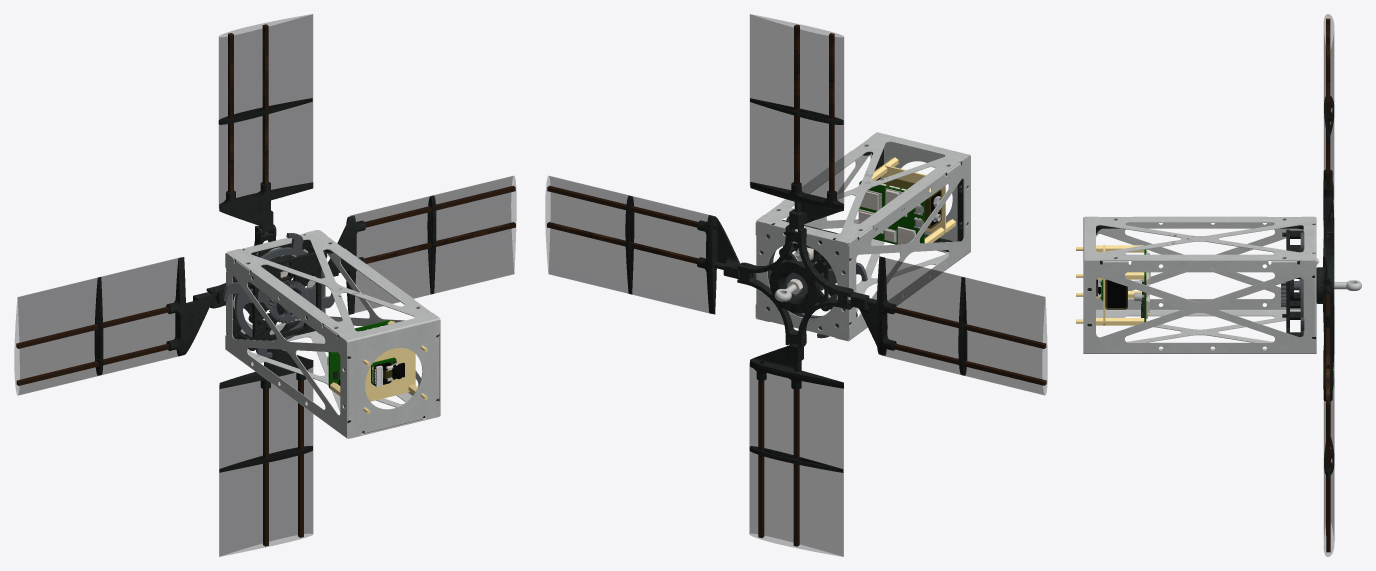
File: CANSAT.glb
3 views of the same model, side by side, from view 1: azimuth 30°, elevation 25°; view 2: azimuth 150°, elevation 25°; view 3: azimuth 270°, elevation 25° (orthographic). The views are drawn at different scales.
Parts seen in each view (by area): view 1: CANSAT.ESTRUCTURA001, CANSAT.ACETATOPALA004, CANSAT.ACETATOPALA002, CANSAT.ACETATOPALA003, CANSAT.ACETATOPALA001, CANSAT.MEC_AUTO003, CANSAT.MEC_AUTO002, CANSAT.SUJPALA004, CANSAT.SUJPALA002, CANSAT.BASE001, CANSAT.SUJPALA003, CANSAT.SUJPALA001 (+15 smaller); view 2: CANSAT.ESTRUCTURA001, CANSAT.ACETATOPALA004, CANSAT.ACETATOPALA002, CANSAT.ACETATOPALA001, CANSAT.ACETATOPALA003, CANSAT.AUTOGIRO001, CANSAT.SUJPALA001, CANSAT.SUJPALA003, CANSAT.SUJPALA004, CANSAT.SUJPALA002, CANSAT.SHIELD_PCB001, CANSAT.BASE001 (+15 smaller); view 3: CANSAT.ESTRUCTURA001, CANSAT.ACETATOPALA002, CANSAT.ACETATOPALA003, CANSAT.ACETATOPALA001, CANSAT.BASE001, CANSAT.AUTOGIRO001, CANSAT.MEC_AUTO002, CANSAT.EJESUP003, CANSAT.EJEINF002, CANSAT.SUJPALA002, CANSAT.MEC_AUTO003, CANSAT.BAT002 (+2 smaller).
Boxes of the visible parts, <box> form: CANSAT.ESTRUCTURA001: <box>225,230,440,438</box>; CANSAT.ACETATOPALA004: <box>14,257,181,395</box>; CANSAT.ACETATOPALA002: <box>219,14,312,208</box>; CANSAT.ACETATOPALA003: <box>219,367,313,556</box>; CANSAT.ACETATOPALA001: <box>350,176,516,312</box>; CANSAT.MEC_AUTO003: <box>222,233,334,357</box>; CANSAT.MEC_AUTO002: <box>236,245,327,350</box>; CANSAT.SUJPALA004: <box>166,257,217,356</box>; CANSAT.SUJPALA002: <box>219,182,313,234</box>; CANSAT.BASE001: <box>330,320,427,413</box>; CANSAT.SUJPALA003: <box>219,348,313,389</box>; CANSAT.SUJPALA001: <box>328,215,365,314</box>; CANSAT.ESTRUCTURA001: <box>755,132,970,341</box>; CANSAT.ACETATOPALA004: <box>878,257,1047,395</box>; CANSAT.ACETATOPALA002: <box>750,14,843,208</box>; CANSAT.ACETATOPALA001: <box>545,176,712,313</box>; CANSAT.ACETATOPALA003: <box>749,363,843,556</box>; CANSAT.AUTOGIRO001: <box>737,225,853,348</box>; CANSAT.SUJPALA001: <box>697,215,739,314</box>; CANSAT.SUJPALA003: <box>750,343,843,389</box>; CANSAT.SUJPALA004: <box>847,256,896,355</box>; CANSAT.SUJPALA002: <box>750,182,843,232</box>; CANSAT.SHIELD_PCB001: <box>858,188,915,244</box>; CANSAT.BASE001: <box>861,157,955,243</box>; CANSAT.ESTRUCTURA001: <box>1083,216,1316,353</box>; CANSAT.ACETATOPALA002: <box>1324,14,1334,221</box>; CANSAT.ACETATOPALA003: <box>1324,386,1334,556</box>; CANSAT.ACETATOPALA001: <box>1324,278,1334,448</box>; CANSAT.BASE001: <box>1076,245,1144,325</box>; CANSAT.AUTOGIRO001: <box>1316,225,1334,345</box>; CANSAT.MEC_AUTO002: <box>1282,229,1315,339</box>; CANSAT.EJESUP003: <box>1326,401,1330,552</box>; CANSAT.EJEINF002: <box>1326,35,1330,188</box>; CANSAT.SUJPALA002: <box>1323,169,1333,236</box>; CANSAT.MEC_AUTO003: <box>1281,232,1304,332</box>; CANSAT.BAT002: <box>1107,280,1126,307</box>.
Size of the model in its own units: 425 by 424 by 220.
15 materials, 7 textured.
